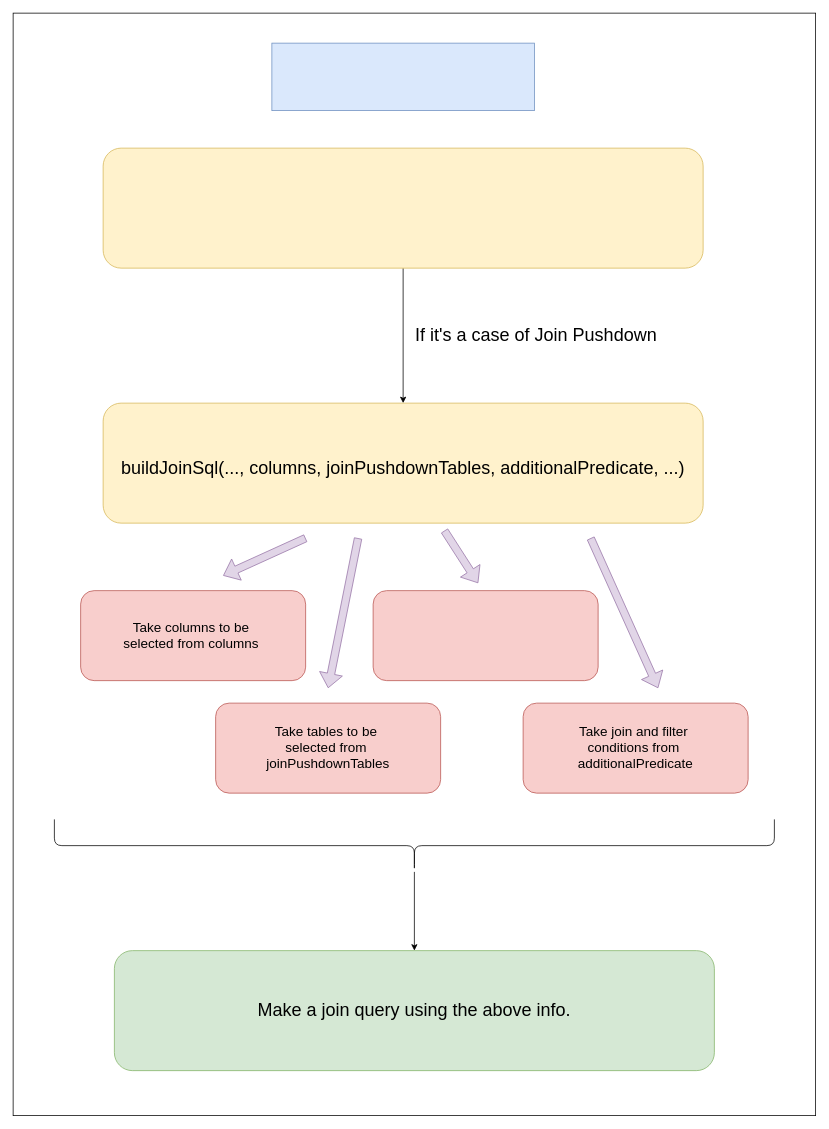
The diagram is 829 pixels wide and 1129 high, and some of its shapes have lost their labels. The shapes that lost their labels are listed below. From the top down, each one's centre as x and y in pixels, then its label:
point 402,76: QueryBuilder class
point 402,207: buildSql(..., columns, joinPushdownTables, additionalPredicate, ...)
point 485,635: Take table alias from joinPushdownTables
